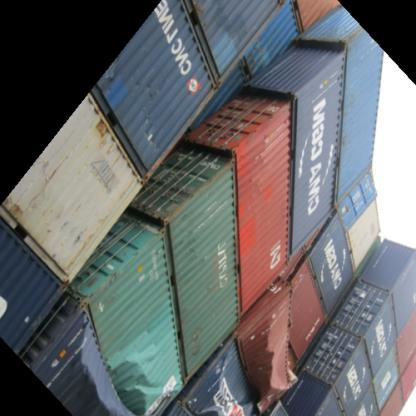Damage: (68, 311, 174, 415), (256, 307, 294, 397), (204, 350, 255, 415)
